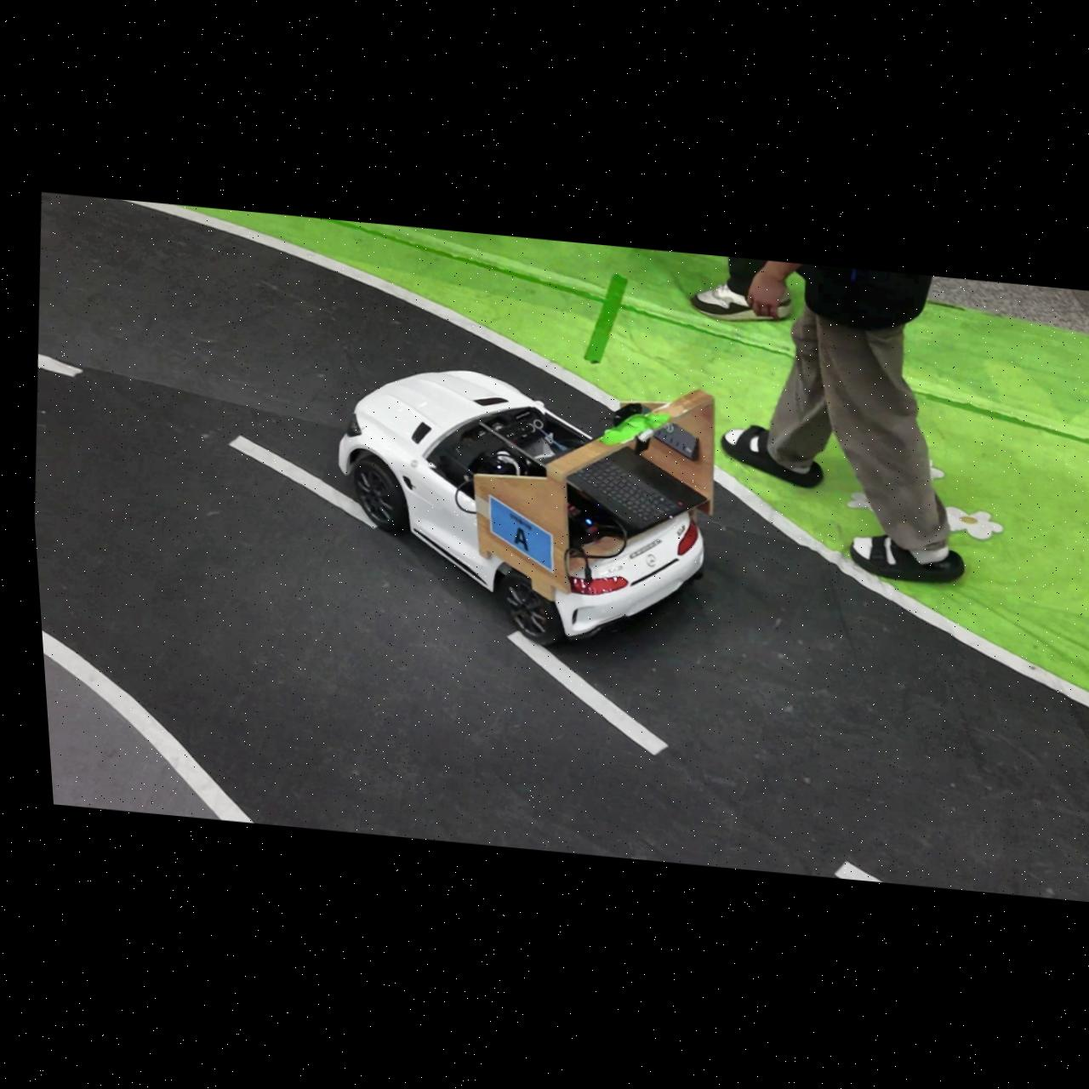broken_line: (508, 631, 667, 755), (230, 435, 377, 529), (38, 354, 82, 376), (835, 862, 881, 882)
